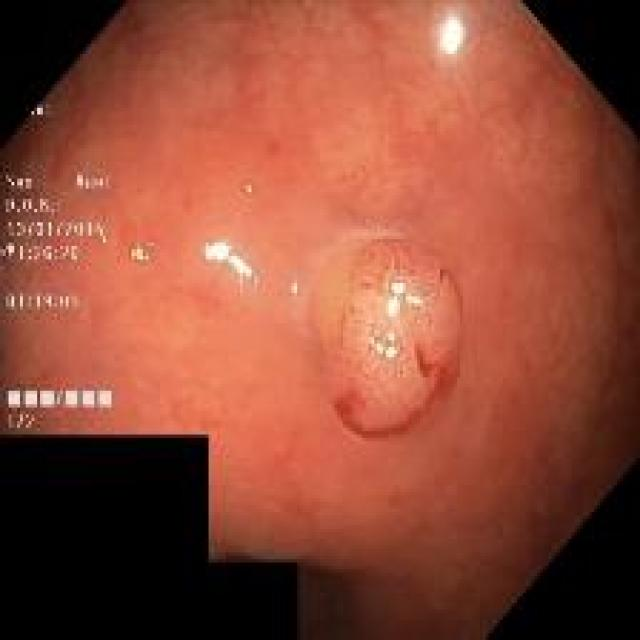Polyps: (312, 236, 459, 437)
